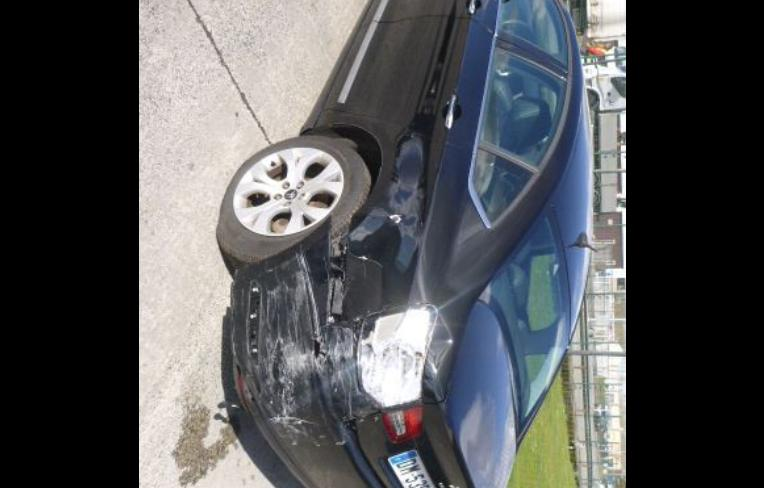Broken part: (220, 217, 385, 488)
Cracked: (354, 304, 437, 409)
Dent: (330, 211, 398, 266), (389, 134, 423, 241), (424, 314, 452, 387)
Scratch: (231, 253, 326, 418), (267, 318, 379, 449), (347, 253, 383, 277), (385, 213, 404, 225)
